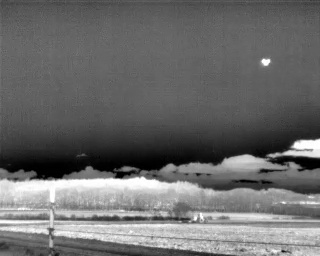DRONE: (257, 54, 275, 70)
